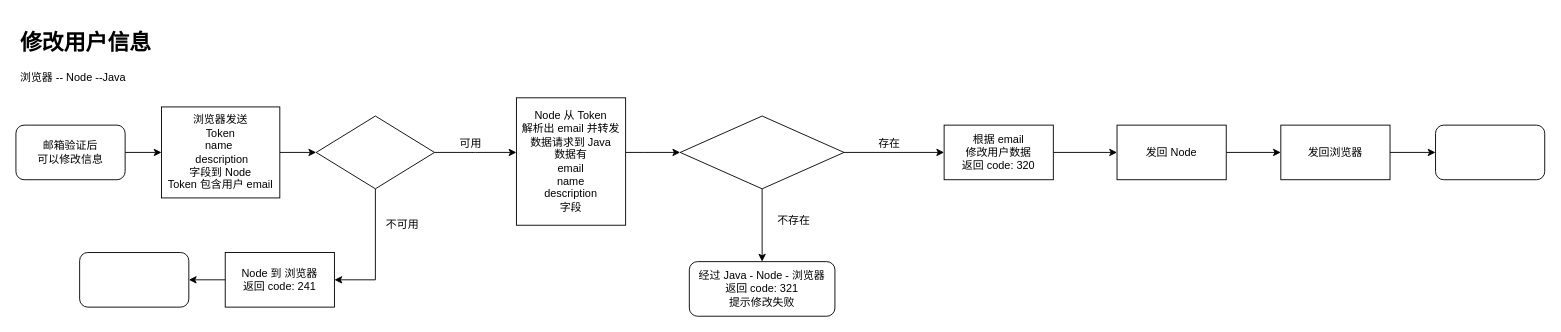
The diagram is 1561 pixels wide and 332 high, and some of its shapes have lost their labels. Each missing label, with the centre of its shape:
"判断Token 是否可用" belongs at [375,152].
"清除浏览器中的 Token 跳转到游客页" belongs at [134,279].
"用户是否存在 之类的判断" belongs at [761,152].
"返回 code: 320 修改用户信息成功 在页面中更新数据" belongs at [1490,152].
